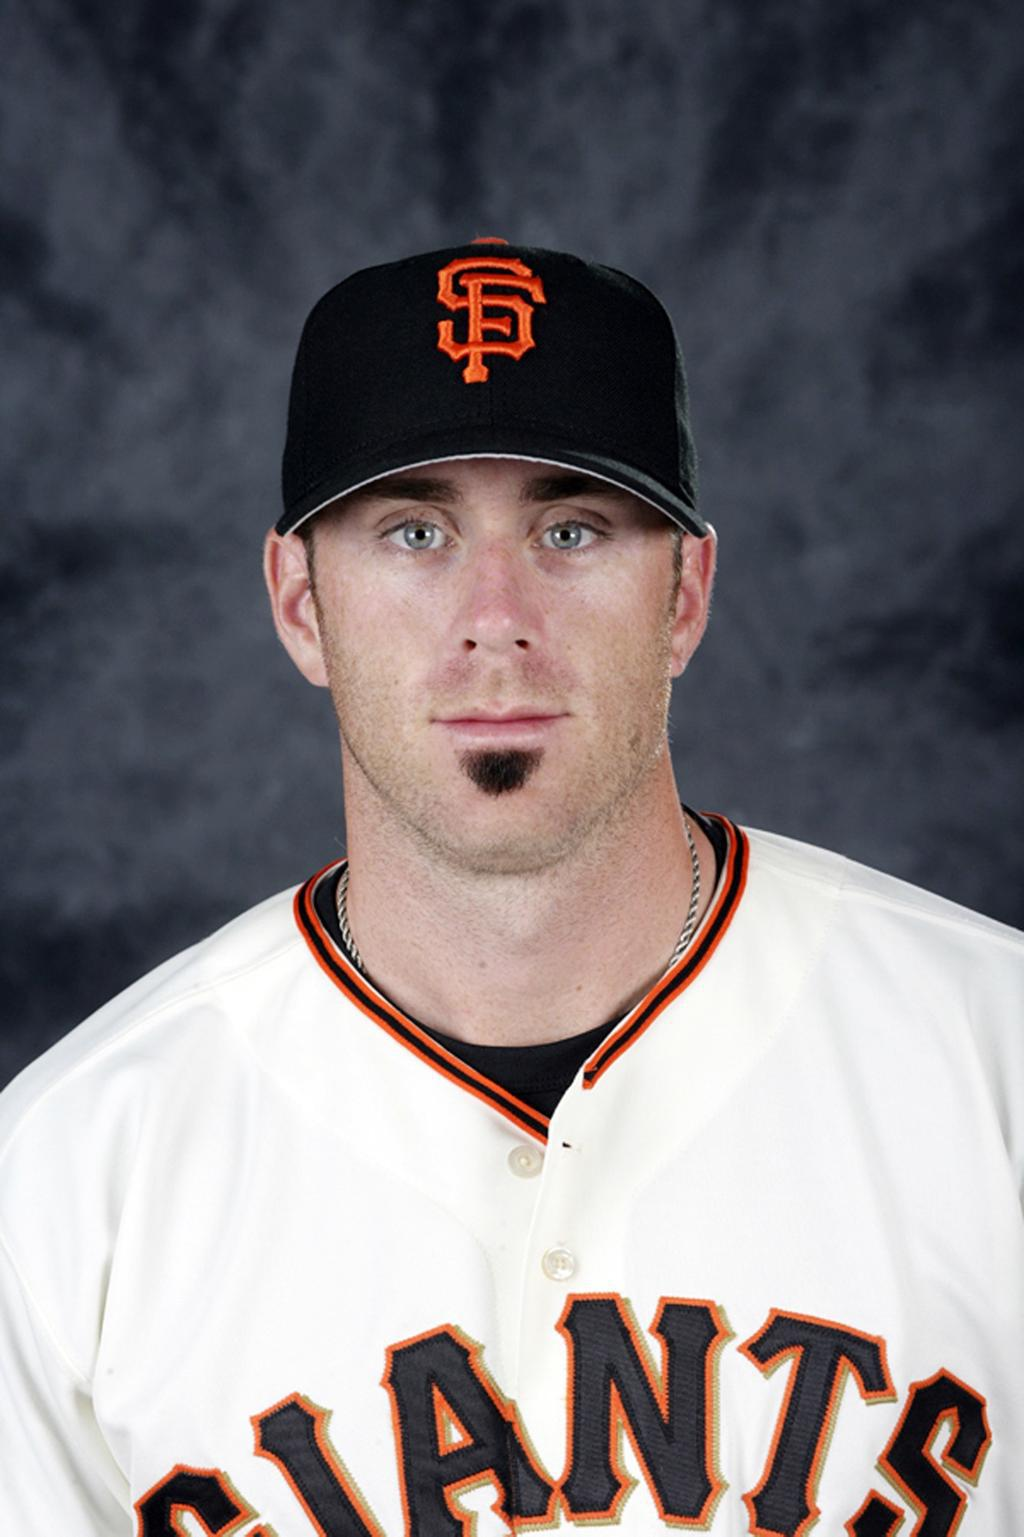face: (316, 355, 664, 838)
